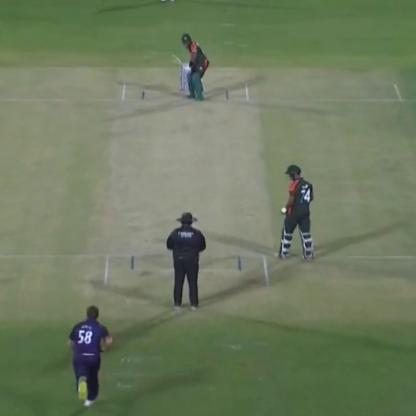bat: (158, 43, 192, 85)
pitch: (92, 78, 274, 309)
